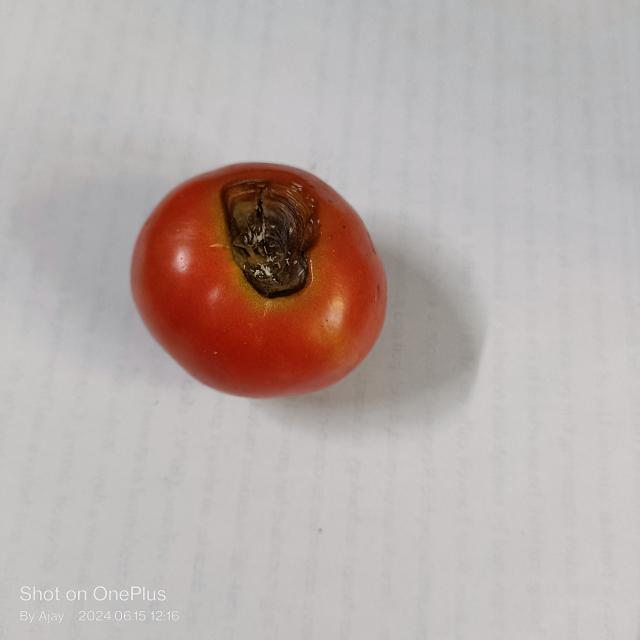Anthrocnose: (222, 174, 316, 298)
